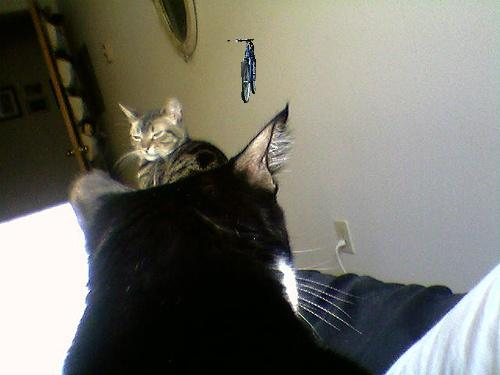tampered: (228, 40, 256, 103)
